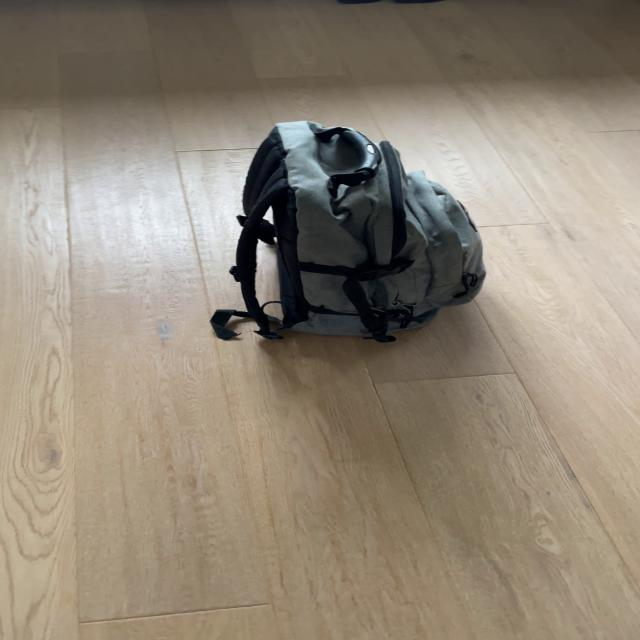backpack: (222, 113, 500, 345)
